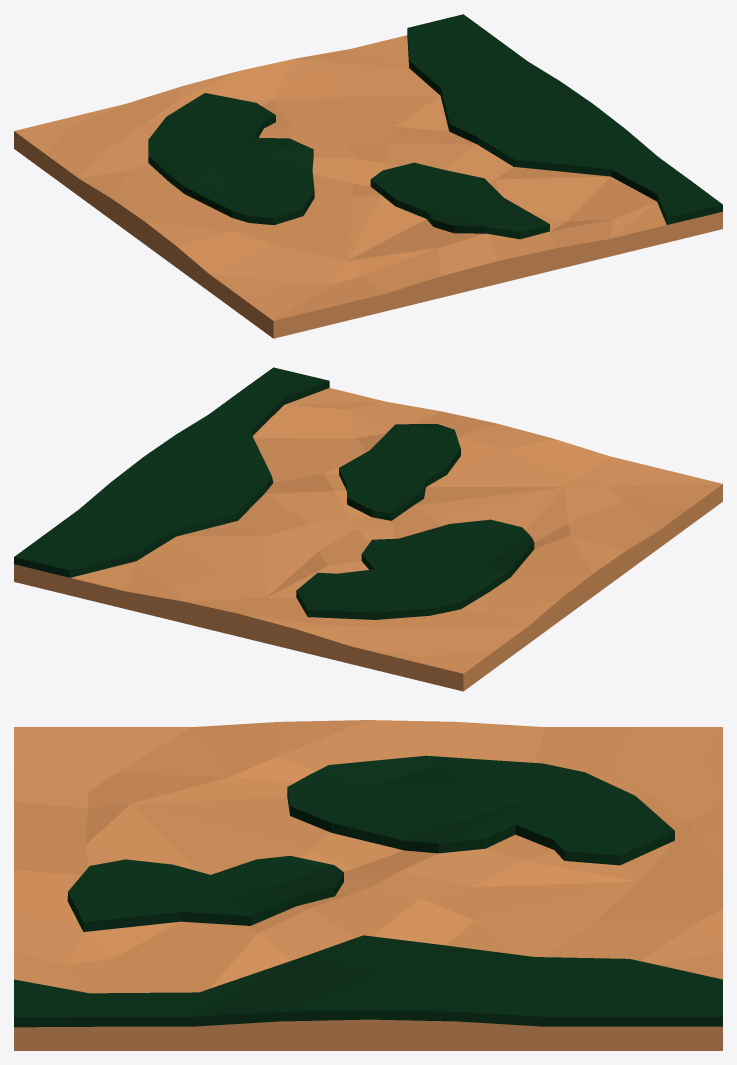
Rendered from Road_green_6.FBX.
3 renders of one model, top to bottom at view 1: azimuth 30°, elevation 25°; view 2: azimuth 150°, elevation 25°; view 3: azimuth 270°, elevation 25°, orthographic. The views are drawn at different scales.
Parts seen in each view (by area): view 1: Road_green_6; view 2: Road_green_6; view 3: Road_green_6.
Boxes of the visible parts, <box> form: Road_green_6: <box>14,14,722,338</box>; Road_green_6: <box>14,367,722,691</box>; Road_green_6: <box>14,720,722,1050</box>.
Bounding box in the file's own units: 1.5 × 0.1067 × 1.5.
1 material, 1 textured.
